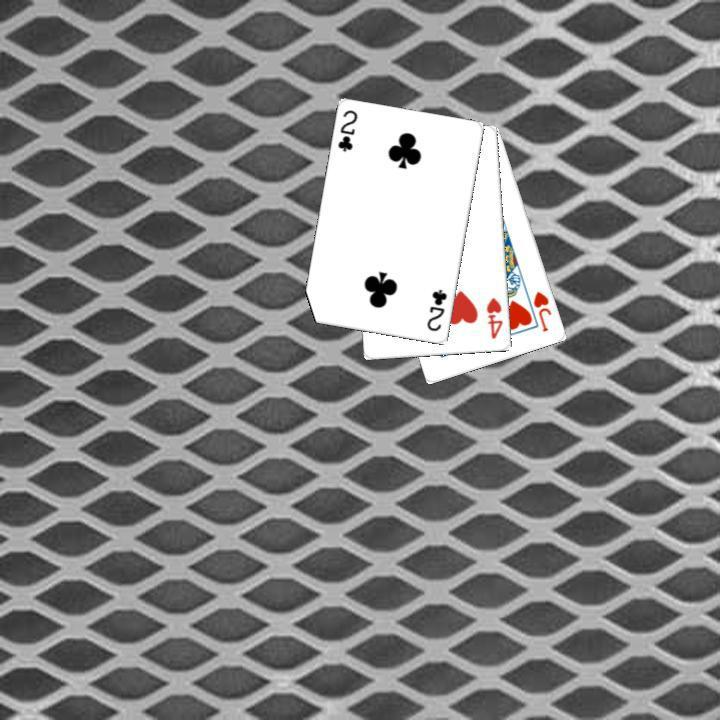2: (423, 285, 449, 334), (334, 106, 360, 154)
4: (482, 294, 505, 341)
J: (529, 287, 554, 334)
